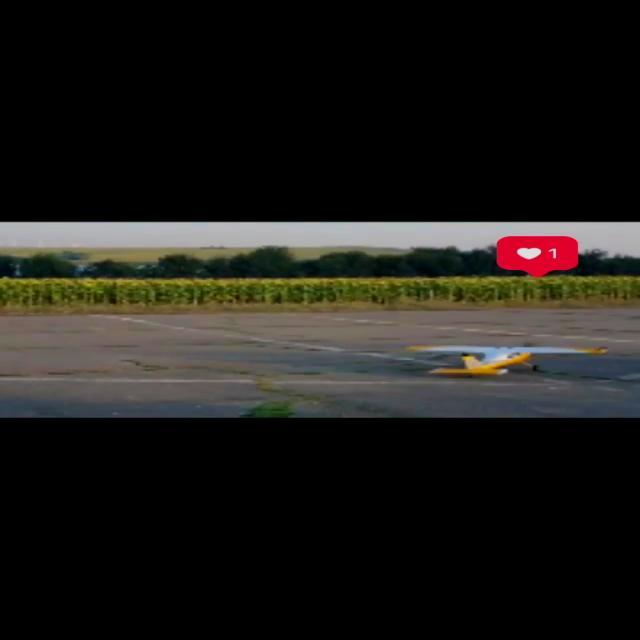iha: (401, 333, 611, 381)
